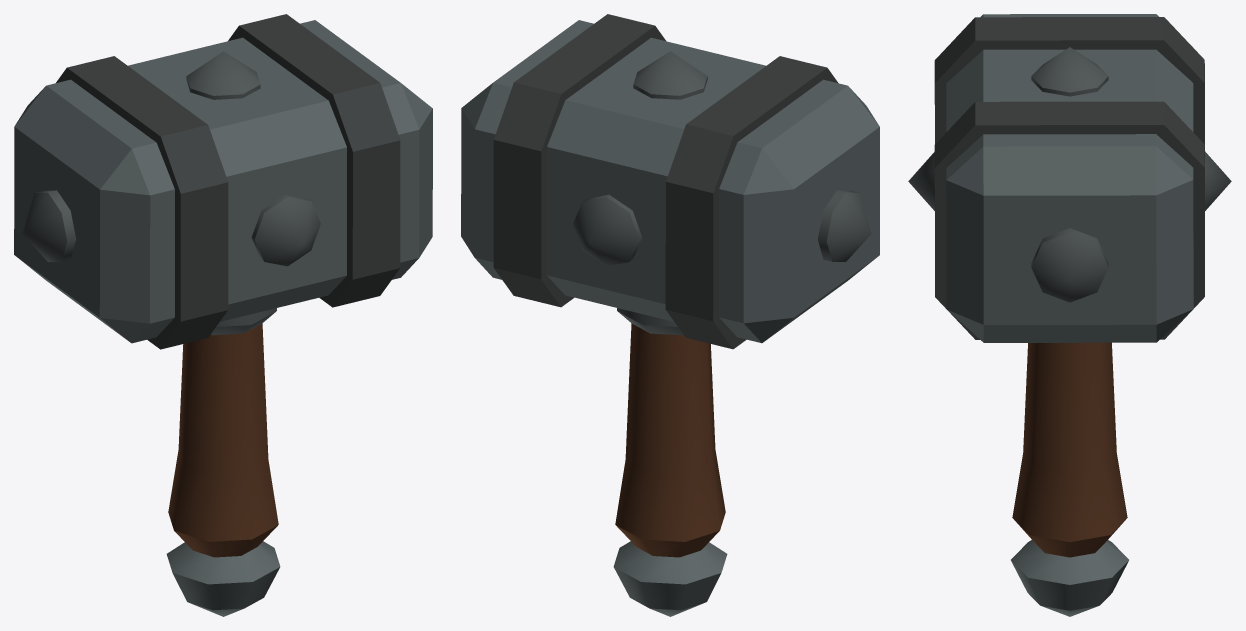
File: Hammer_LHand_10.fbx
3 renders of one model, left to right at view 1: azimuth 30°, elevation 25°; view 2: azimuth 150°, elevation 25°; view 3: azimuth 270°, elevation 25°, orthographic.
Visible parts, largest first — view 1: Hammer_LHand_10; view 2: Hammer_LHand_10; view 3: Hammer_LHand_10.
Part boxes in pixels (x1,y1,x2,y2): Hammer_LHand_10: [14, 14, 432, 616]; Hammer_LHand_10: [461, 14, 879, 616]; Hammer_LHand_10: [908, 14, 1231, 616].
Size of the model in its own units: 40.7 by 54.69 by 28.14.
